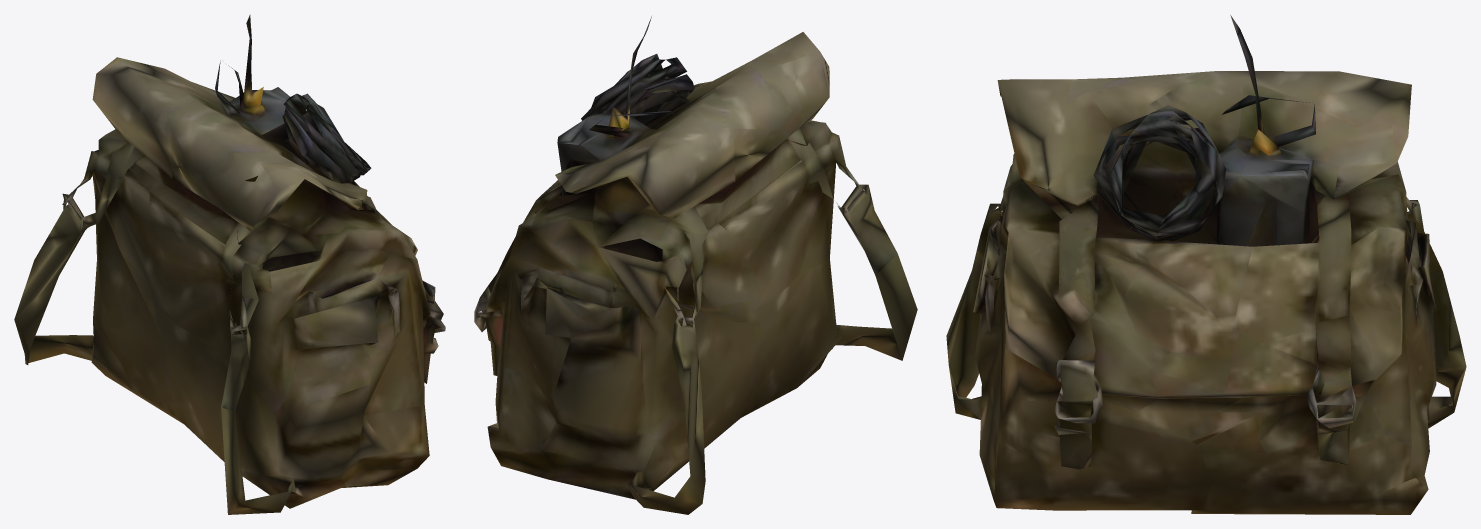
File: satchel_charge_lod1.glb
The picture shows the model from 3 angles, left to right: view 1: azimuth 30°, elevation 25°; view 2: azimuth 150°, elevation 25°; view 3: azimuth 270°, elevation 25°; orthographic projection. The views are drawn at different scales.
Parts seen in each view (by area): view 1: satchel_charge; view 2: satchel_charge; view 3: satchel_charge.
Part boxes in pixels (x1=…): satchel_charge: x1=14, y1=14, x2=445, y2=514; satchel_charge: x1=474, y1=16, x2=917, y2=514; satchel_charge: x1=946, y1=15, x2=1466, y2=514.
Bounding box in the file's own units: 0.1927 × 0.2885 × 0.2883.
1 material, 1 textured.
